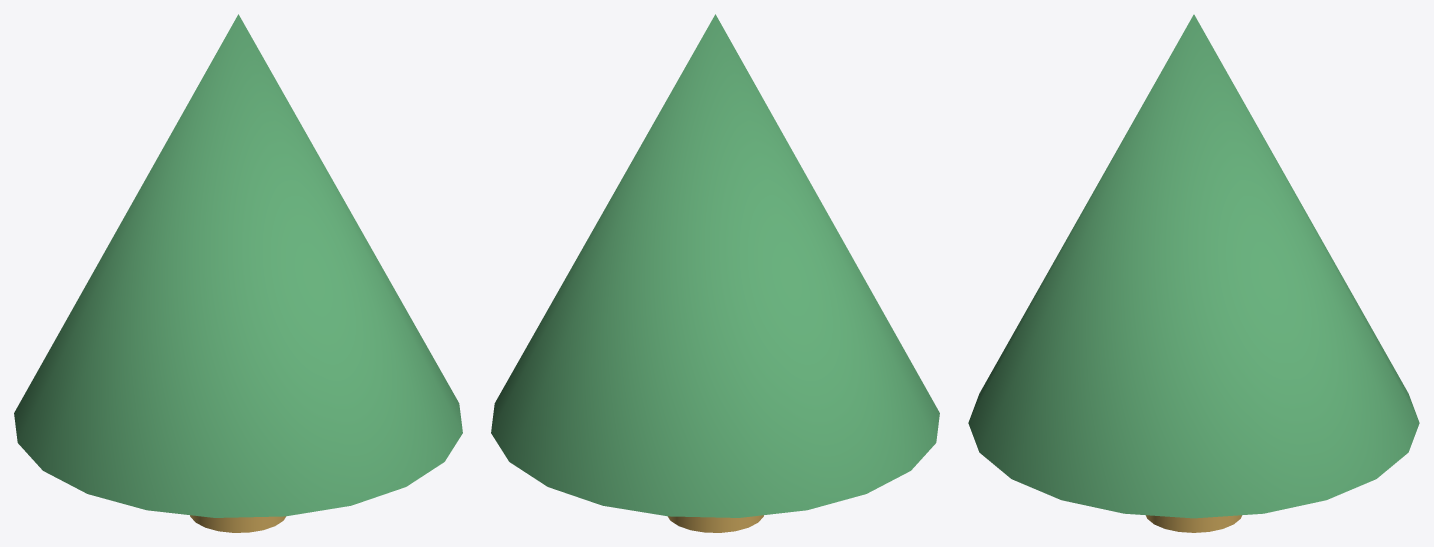
File: cone_verde.fbx
3 renders of one model, left to right at view 1: azimuth 30°, elevation 25°; view 2: azimuth 150°, elevation 25°; view 3: azimuth 270°, elevation 25°, orthographic.
Visible parts, largest first — view 1: pCone2, arvore17; view 2: pCone2, arvore17; view 3: pCone2, arvore17.
Part boxes in pixels (x1,y1,x2,y2): pCone2: (14,14,462,517); arvore17: (190,515,285,532); pCone2: (491,14,939,517); arvore17: (668,515,763,532); pCone2: (968,14,1419,518); arvore17: (1146,515,1241,532).
Bounding box in the file's own units: 2.39 × 2.91 × 2.39.
